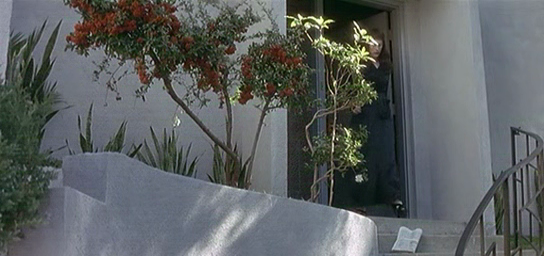face: (369, 37, 382, 58)
ls: (1, 1, 544, 256)
person: (346, 28, 409, 217)
